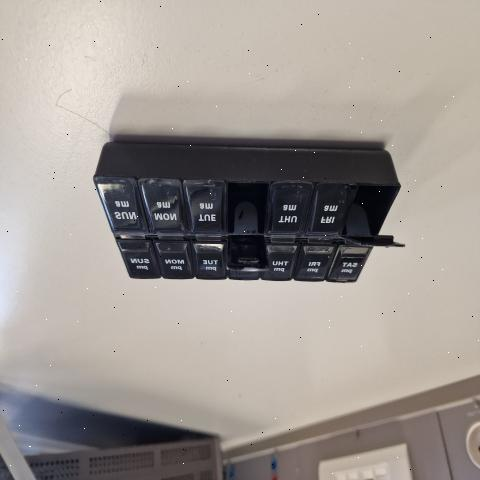Open: (229, 184, 273, 273), (342, 183, 404, 246)
